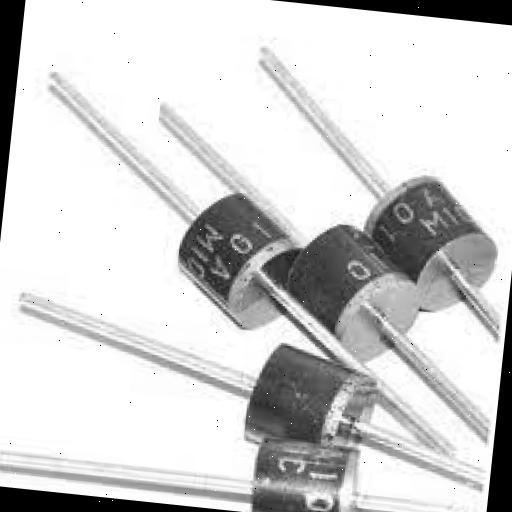DIODE: (112, 158, 356, 340), (210, 308, 458, 476), (343, 150, 512, 380), (202, 393, 466, 512), (274, 200, 420, 368)
